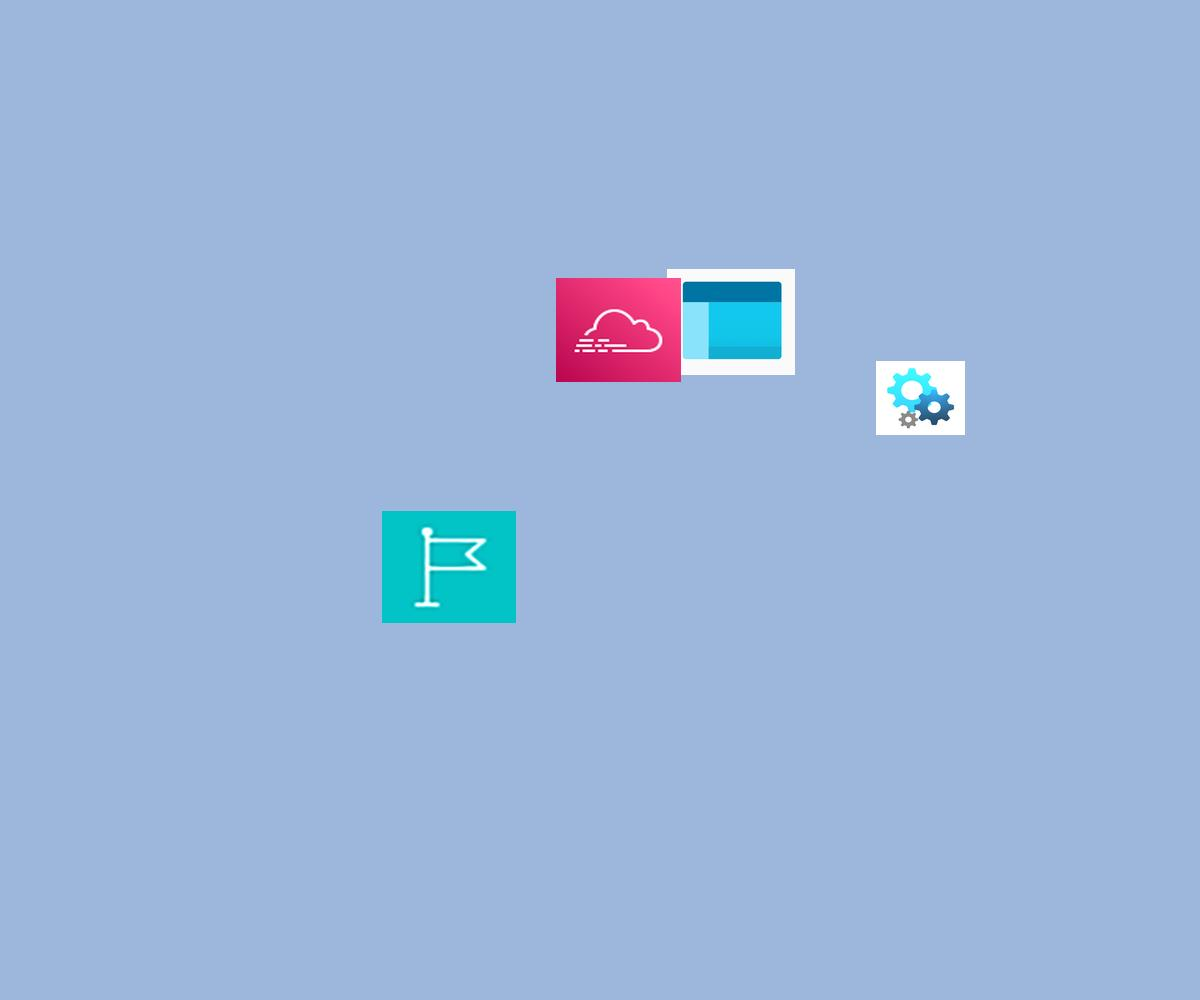AWS-CloudTrail: (556, 278, 681, 382)
AWS-Region: (382, 511, 516, 623)
Azure_api: (876, 361, 965, 435)
Azure_management-portal: (667, 269, 795, 375)
